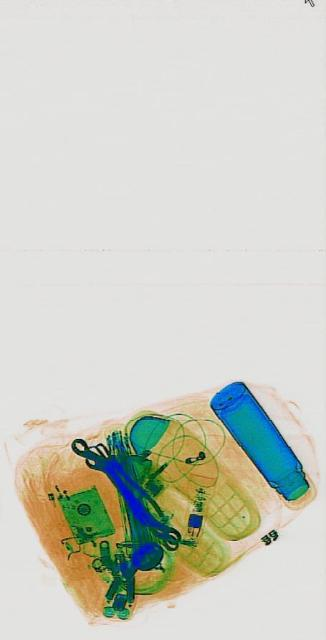Wrench: (69, 430, 180, 550)
